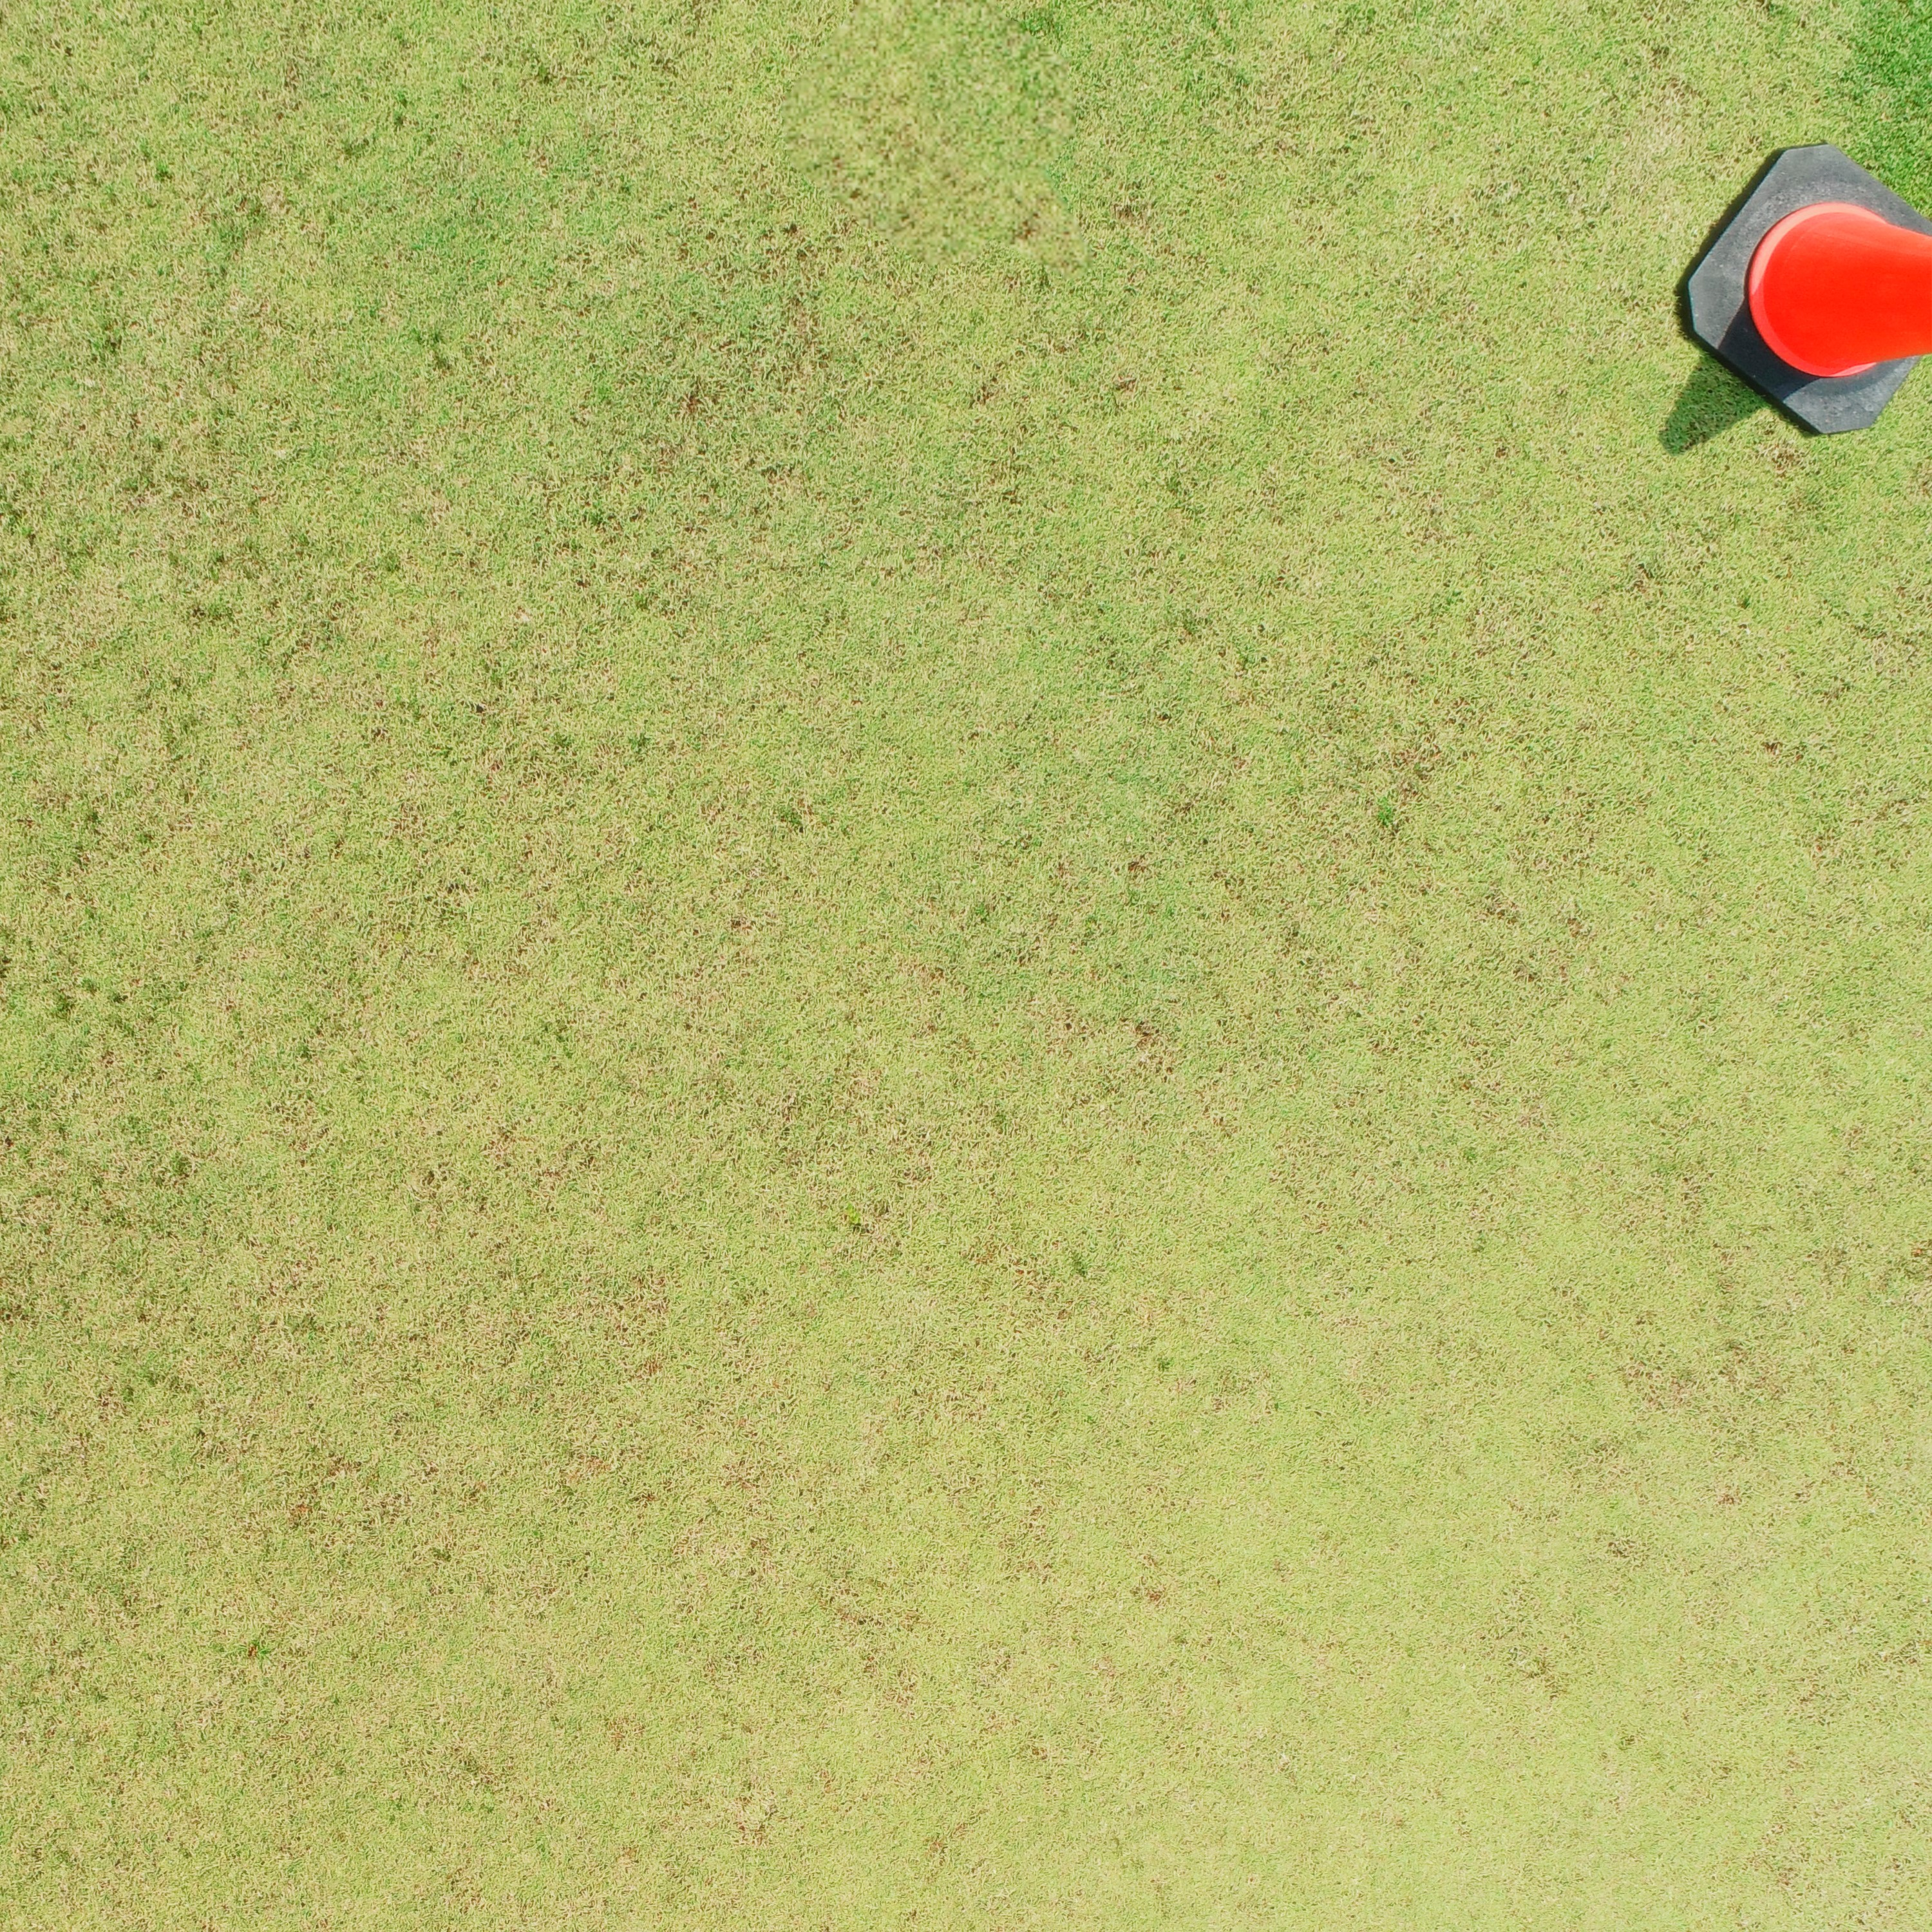traffic cone: (55, 2, 134, 191)
